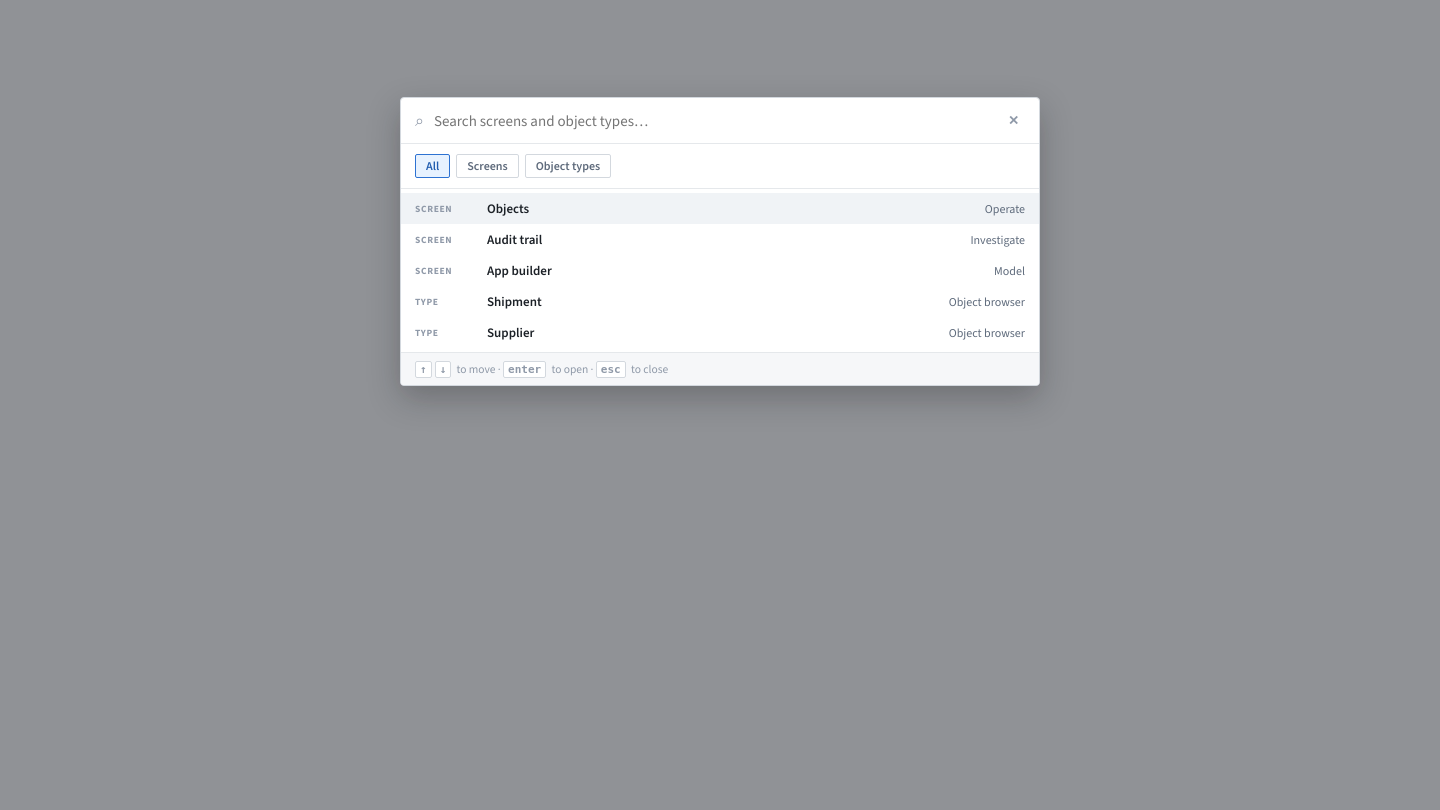
Scenario: QuickSearch › says so when nothing matches, naming what was typed
The image size is (1440, 810).
Type "zzzz" into the field labelled "Search screens and object types" at (713, 121), box [434, 111, 992, 131]
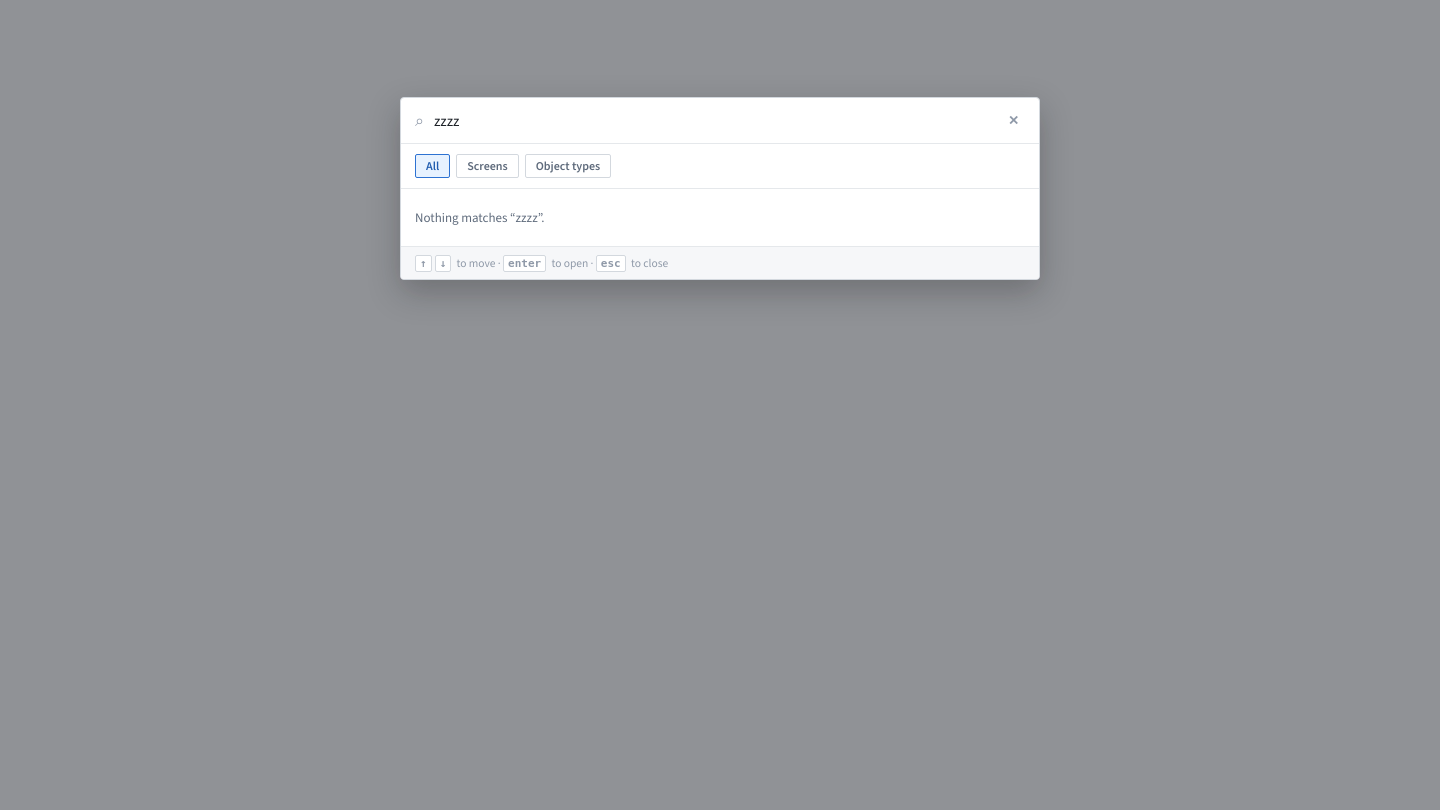
Check: the list item "Nothing matches “zzzz”." is shown, box [415, 209, 544, 226]
